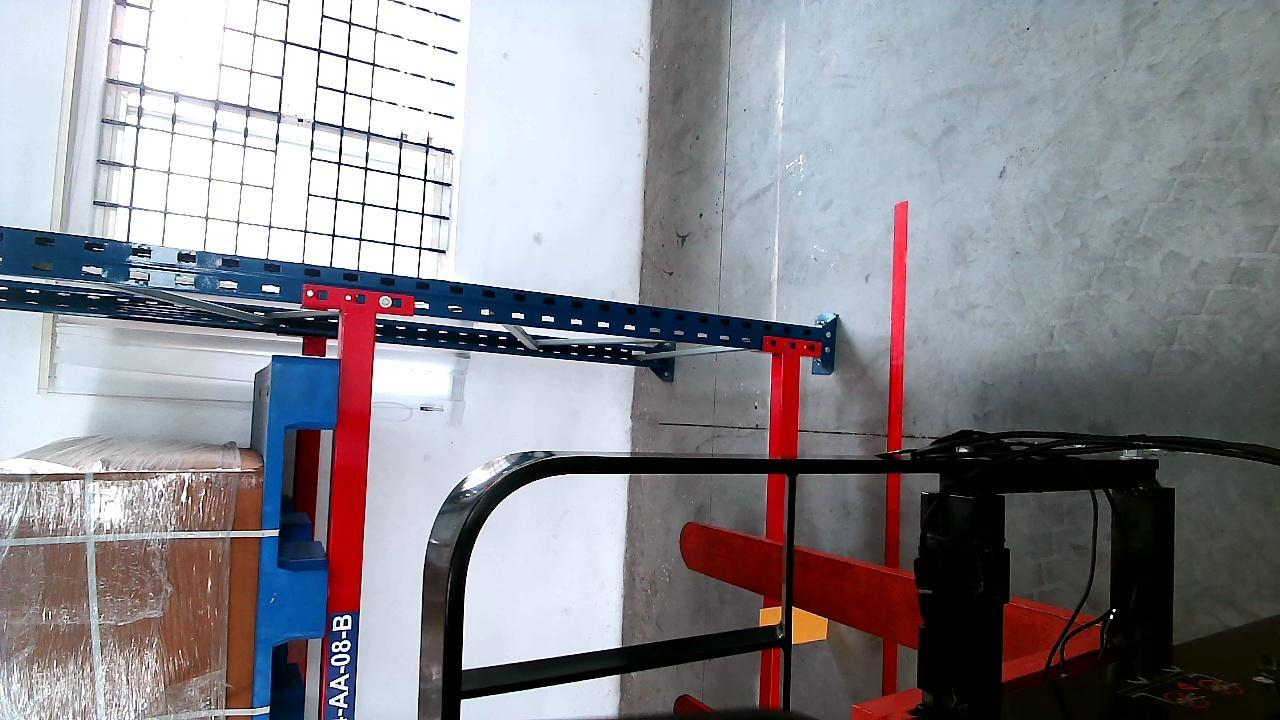red_line: (882, 198, 911, 569)
